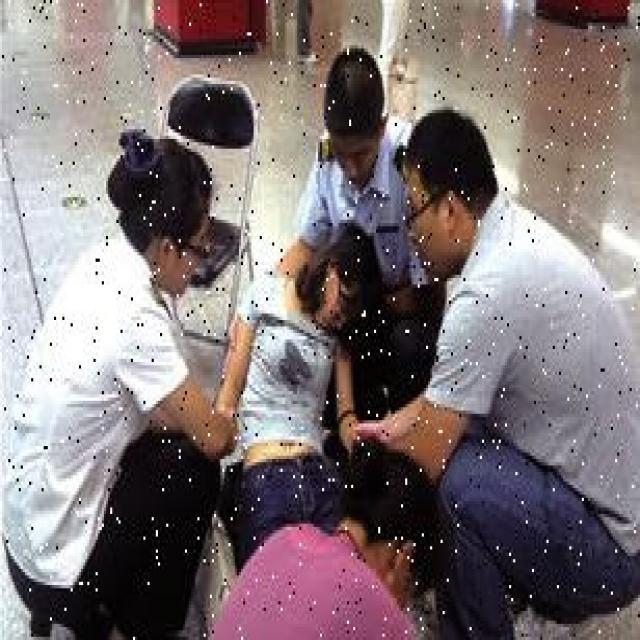fall: (225, 240, 358, 534)
